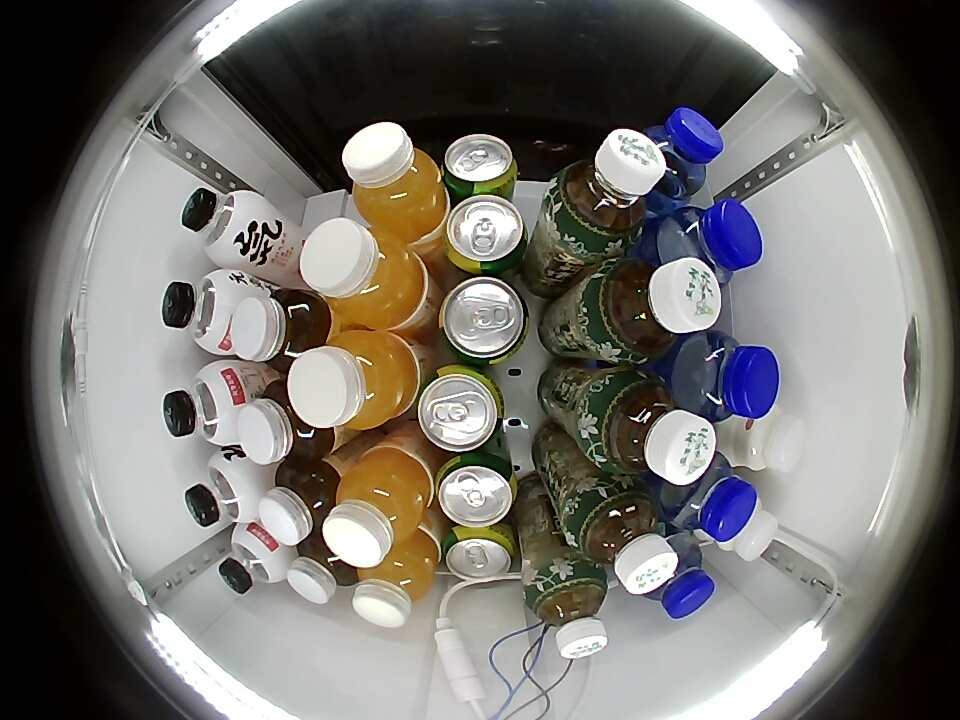chapai: (235, 375, 336, 464), (231, 286, 331, 366), (258, 460, 343, 546), (287, 535, 352, 604)
maidong: (655, 200, 764, 288), (675, 332, 780, 423), (661, 452, 760, 544), (642, 107, 724, 199), (654, 542, 716, 620)
moliqingcha: (585, 367, 717, 485), (583, 256, 722, 363), (547, 129, 666, 252), (567, 481, 679, 597), (525, 564, 610, 660)
weic: (299, 217, 428, 330), (323, 449, 431, 569), (287, 331, 416, 430), (342, 122, 446, 241), (353, 531, 438, 628)
xuebi2: (438, 276, 531, 365), (417, 365, 506, 452), (443, 194, 530, 276), (435, 450, 517, 528), (441, 133, 517, 197), (442, 525, 517, 582)
yingyangkuaixian: (719, 405, 808, 472), (695, 498, 776, 561)
yuanqishui: (162, 268, 250, 356), (163, 360, 249, 447), (184, 448, 268, 529), (181, 187, 260, 265), (217, 521, 290, 594)
